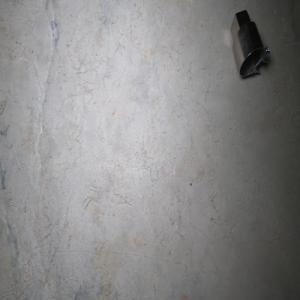MetalPart: (230, 8, 270, 77)
